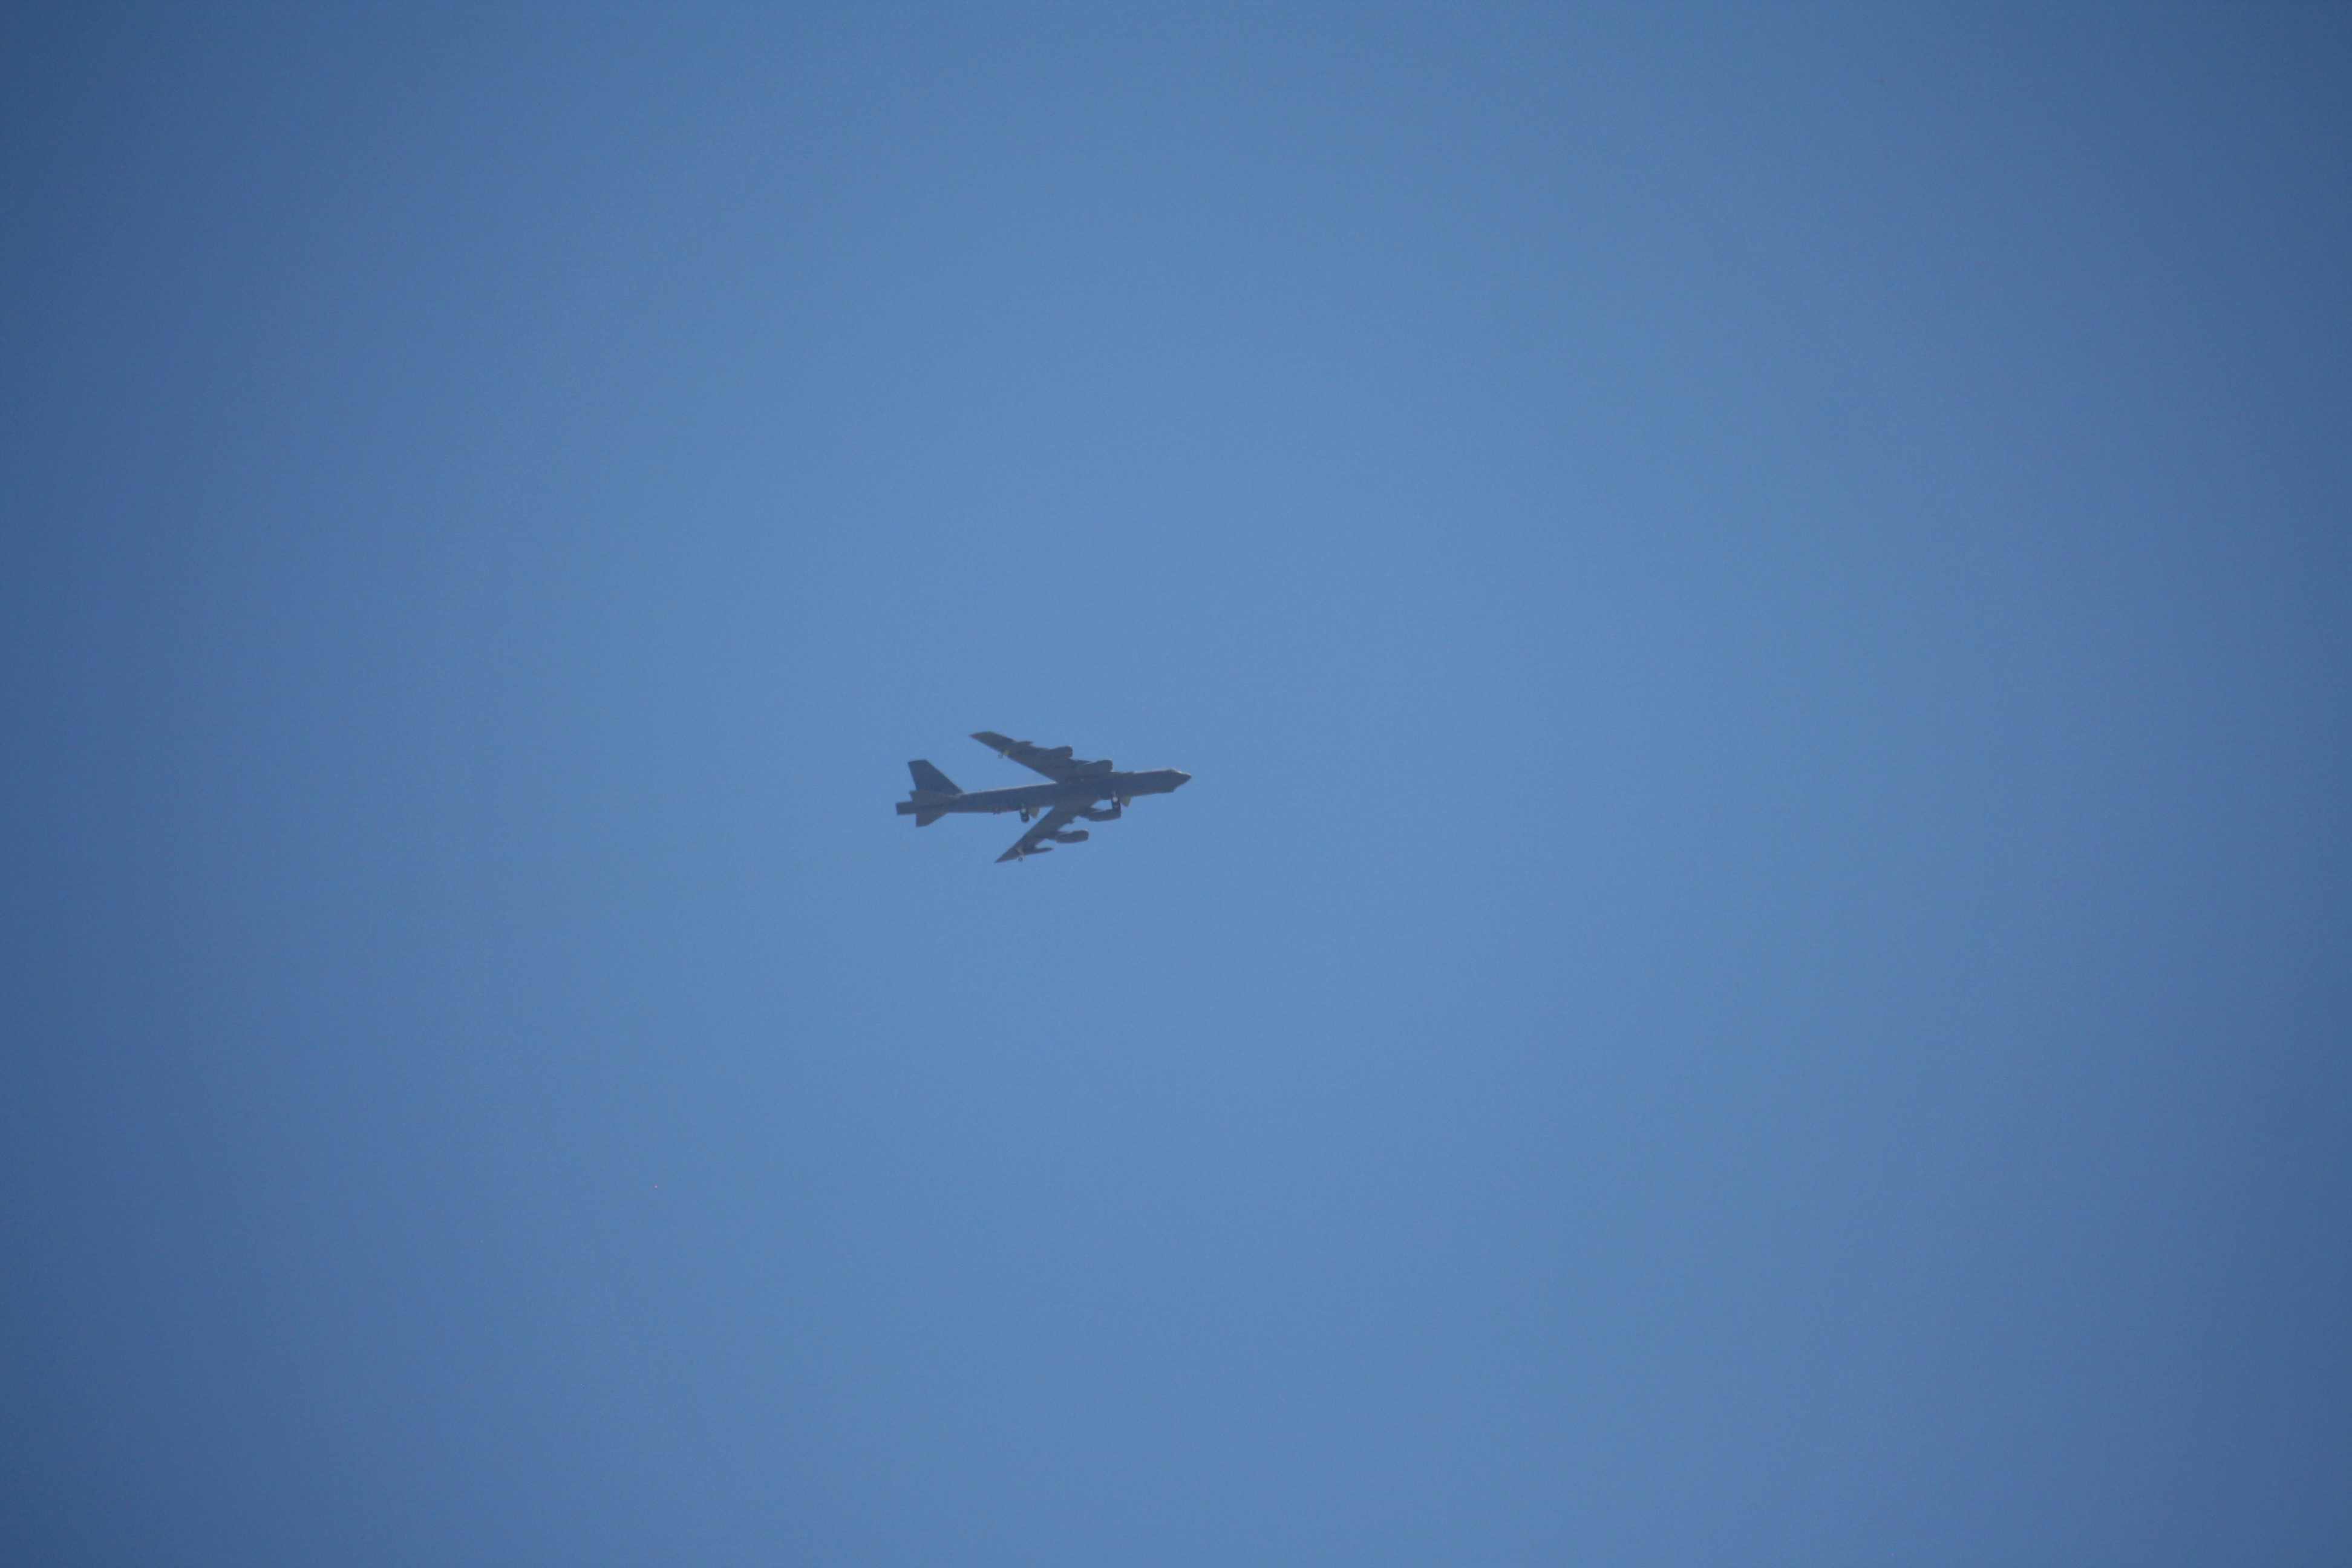B52: (894, 732, 1192, 864)
